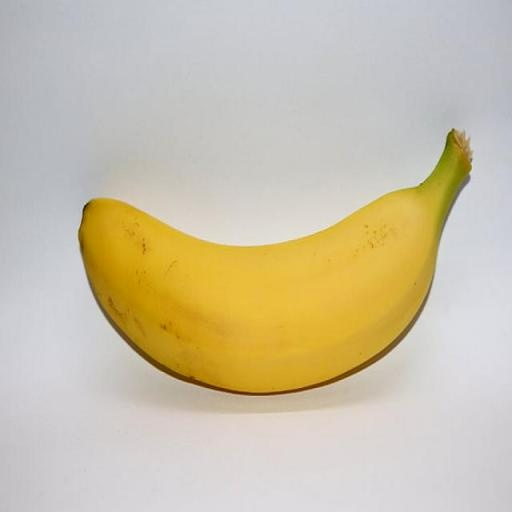fruit: (79, 130, 470, 392)
